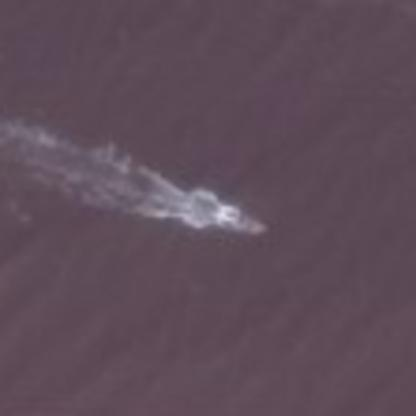ship: (206, 198, 272, 244)
